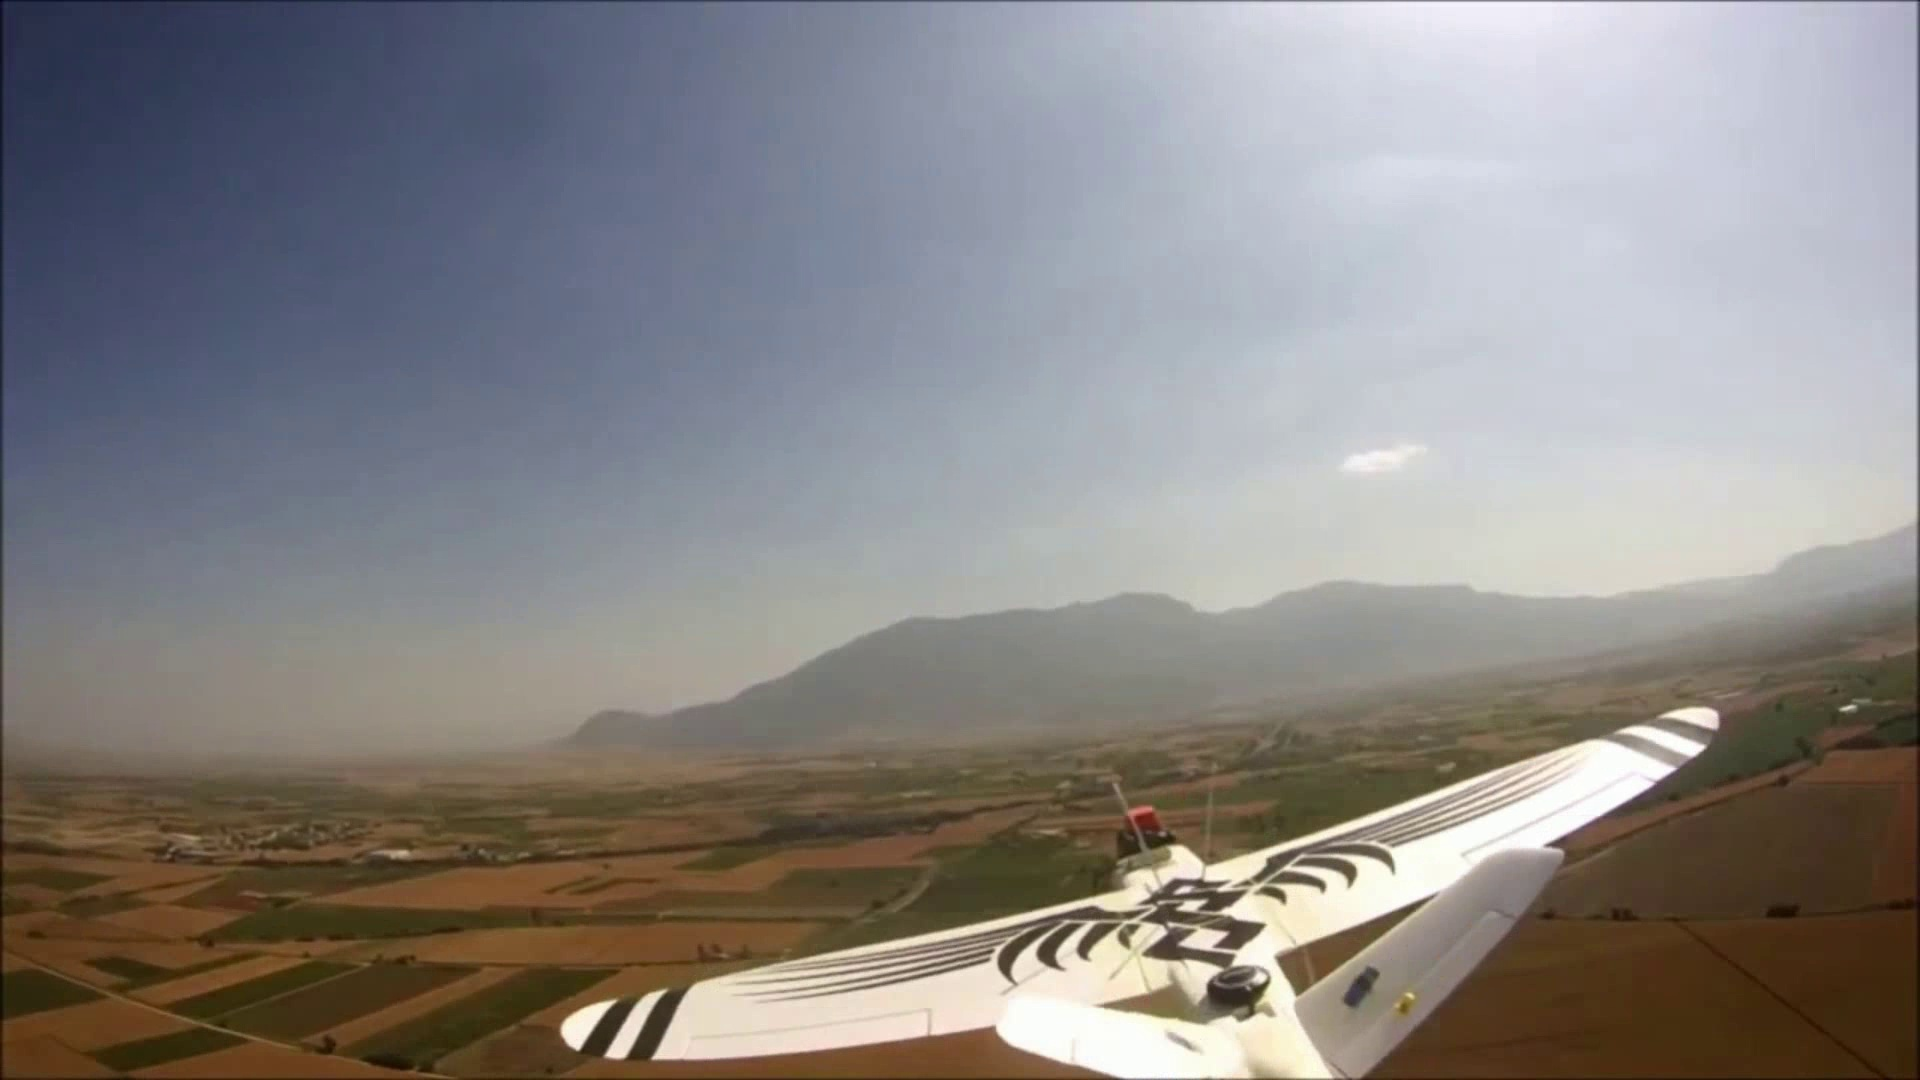airplane: (324, 683, 1862, 1073)
